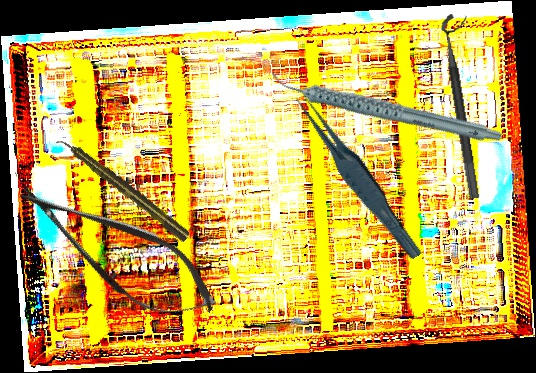Fixation Ring: (439, 11, 495, 200)
Handpiece: (267, 25, 505, 188), (55, 132, 192, 244)
Micro Scissor: (2, 161, 231, 342)
Tissue Forceps: (292, 83, 424, 268)
